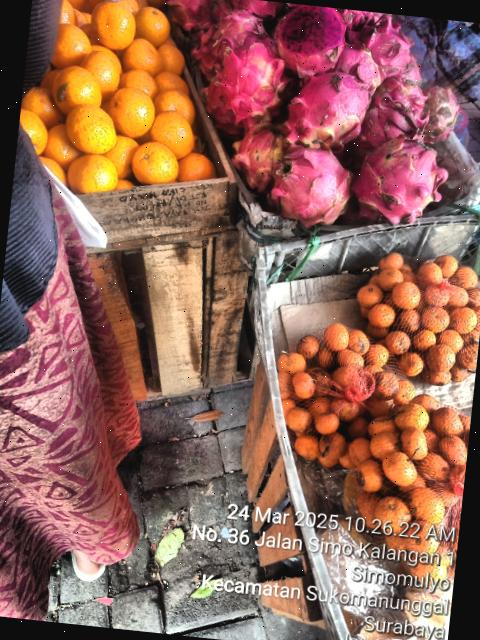buah-naga-belum-matang: (352, 138, 448, 224), (288, 63, 377, 150), (209, 42, 288, 122), (368, 75, 429, 144), (229, 120, 284, 188)
buah-naga-matang: (266, 137, 359, 229), (350, 16, 422, 84), (197, 9, 265, 78), (210, 0, 291, 25), (165, 0, 218, 33)
